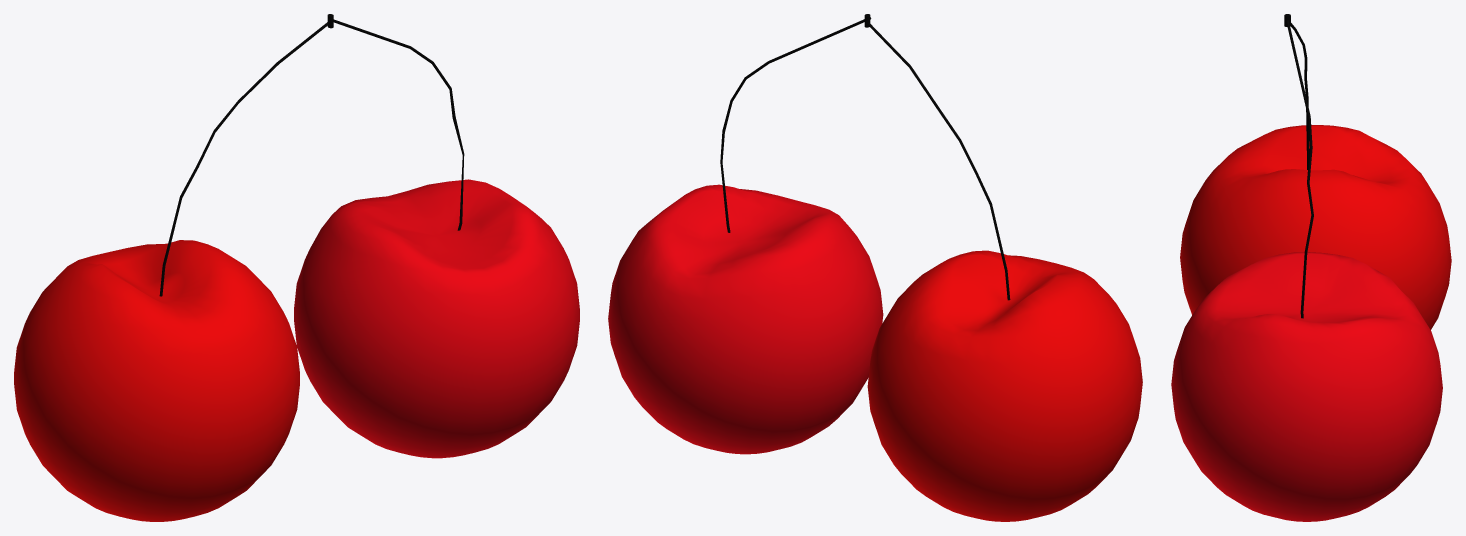
File: kiraz2.fbx
3 views of the same model, side by side, from view 1: azimuth 30°, elevation 25°; view 2: azimuth 150°, elevation 25°; view 3: azimuth 270°, elevation 25° (orthographic). The views are drawn at different scales.
Visible parts, largest first — view 1: Sphere, Sphere.001, Cylinder, Cylinder.001; view 2: Sphere, Sphere.001, Cylinder, Cylinder.001; view 3: Sphere.001, Sphere, Cylinder.001, Cylinder.
Boxes of the visible parts, x1,y1,x2,y2 form: Sphere: (14, 240, 299, 521); Sphere.001: (294, 179, 579, 458); Cylinder: (159, 22, 328, 296); Cylinder.001: (327, 18, 464, 230); Sphere: (867, 250, 1142, 521); Sphere.001: (608, 184, 883, 454); Cylinder: (867, 22, 1010, 300); Cylinder.001: (720, 17, 871, 232); Sphere.001: (1171, 252, 1442, 521); Sphere: (1180, 125, 1451, 329); Cylinder.001: (1286, 20, 1313, 318); Cylinder: (1291, 23, 1309, 169).
Size of the model in its own units: 421 by 358 by 206.
